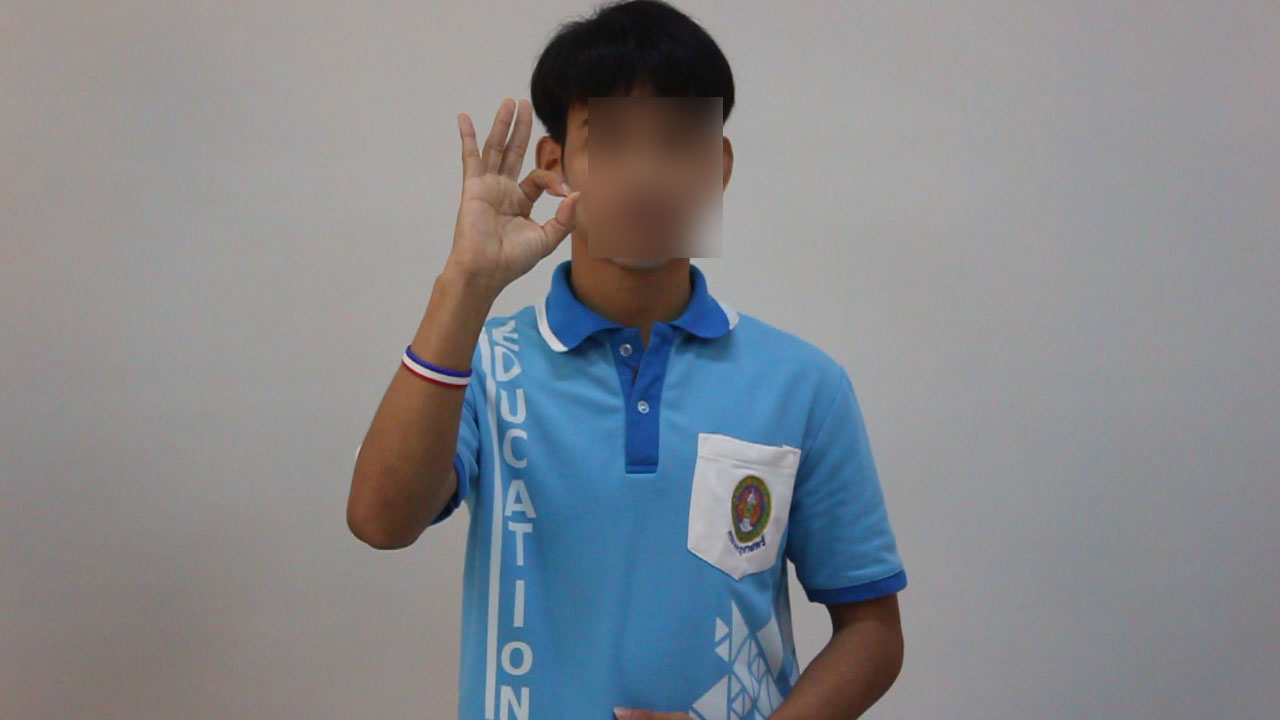for: (412, 88, 586, 299)
